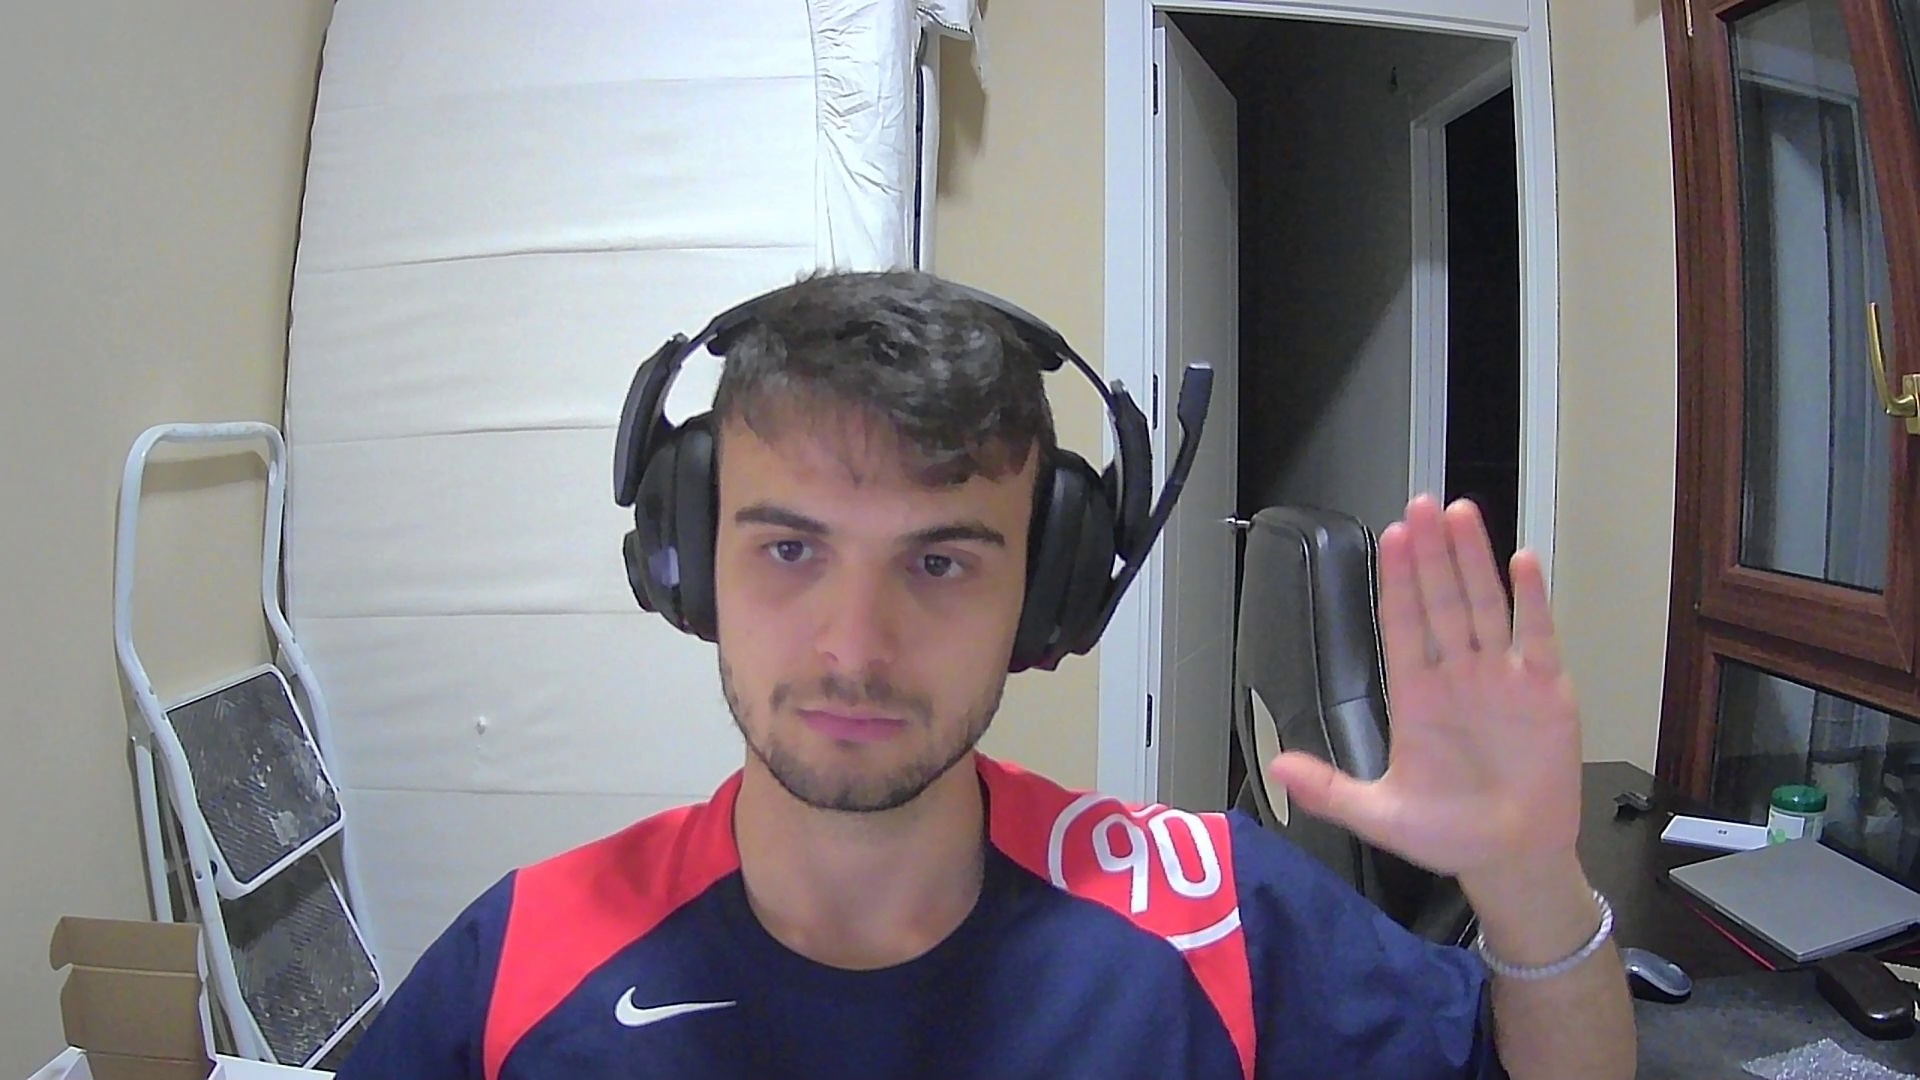Palm: (1269, 488, 1581, 895)
